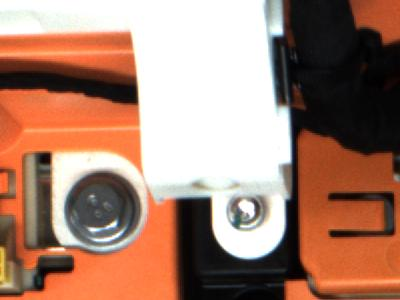nut_b: (65, 173, 141, 246)
